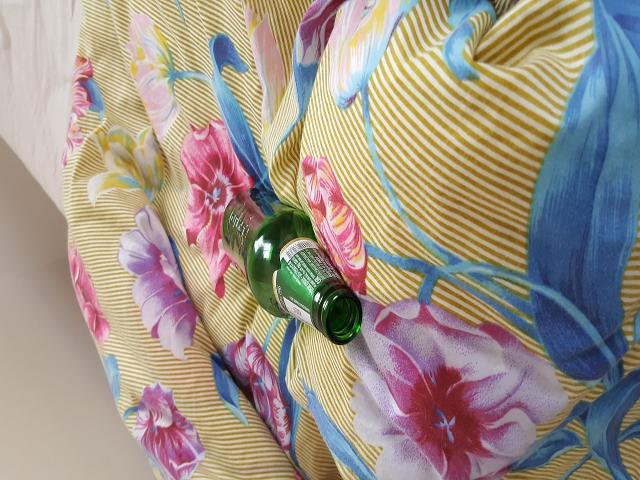beer: (221, 188, 364, 346)
